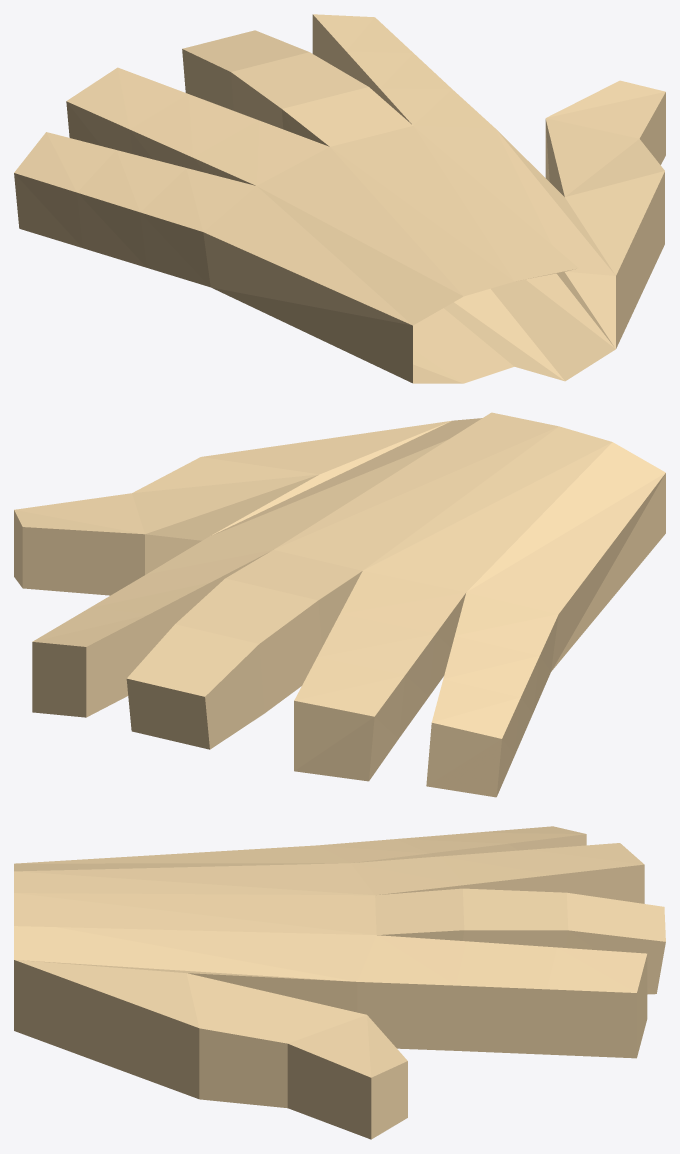
Rendered from uploads_files_1842479_hand1.fbx.
3 views of the same model, one above another, from view 1: azimuth 30°, elevation 25°; view 2: azimuth 150°, elevation 25°; view 3: azimuth 270°, elevation 25° (orthographic). The views are drawn at different scales.
Visible parts, largest first — view 1: Handnew:pCube1; view 2: Handnew:pCube1; view 3: Handnew:pCube1.
Boxes of the visible parts, box(x1,y1,x2,y2) form: Handnew:pCube1: box(14, 14, 665, 383); Handnew:pCube1: box(14, 412, 665, 797); Handnew:pCube1: box(14, 826, 665, 1139).
Bounding box in the file's own units: 2.36 × 0.4683 × 2.45.
Materials: 1 (1 with a texture image).
